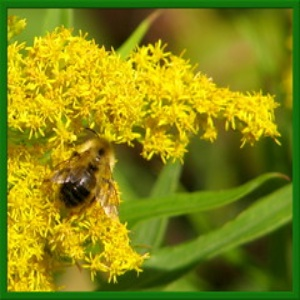bee: (58, 128, 122, 220)
